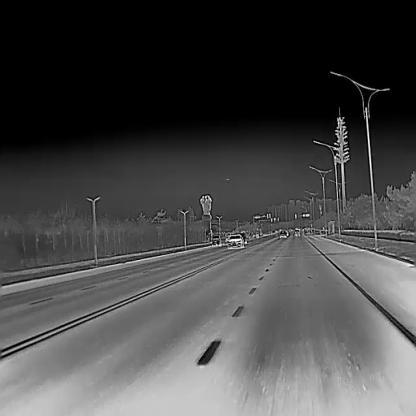car: (224, 234, 243, 247), (210, 234, 223, 246), (278, 230, 287, 238), (293, 229, 300, 238)
